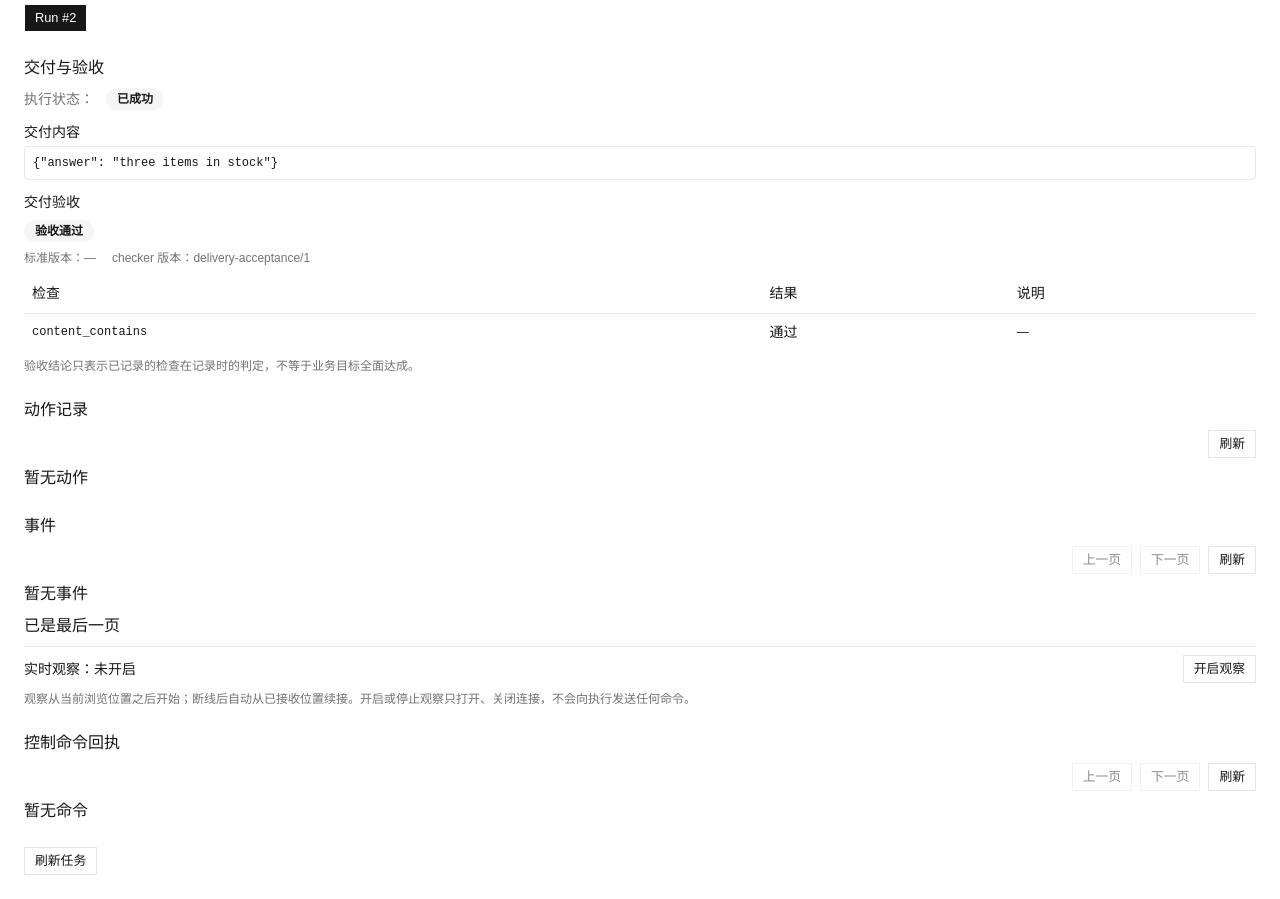
it: TaskDetailPage continuation section › keeps the last trail when a refresh fails
(page scrolled)
Click the button "刷新任务" at (61, 861), box [24, 847, 97, 875]
(page scrolled)
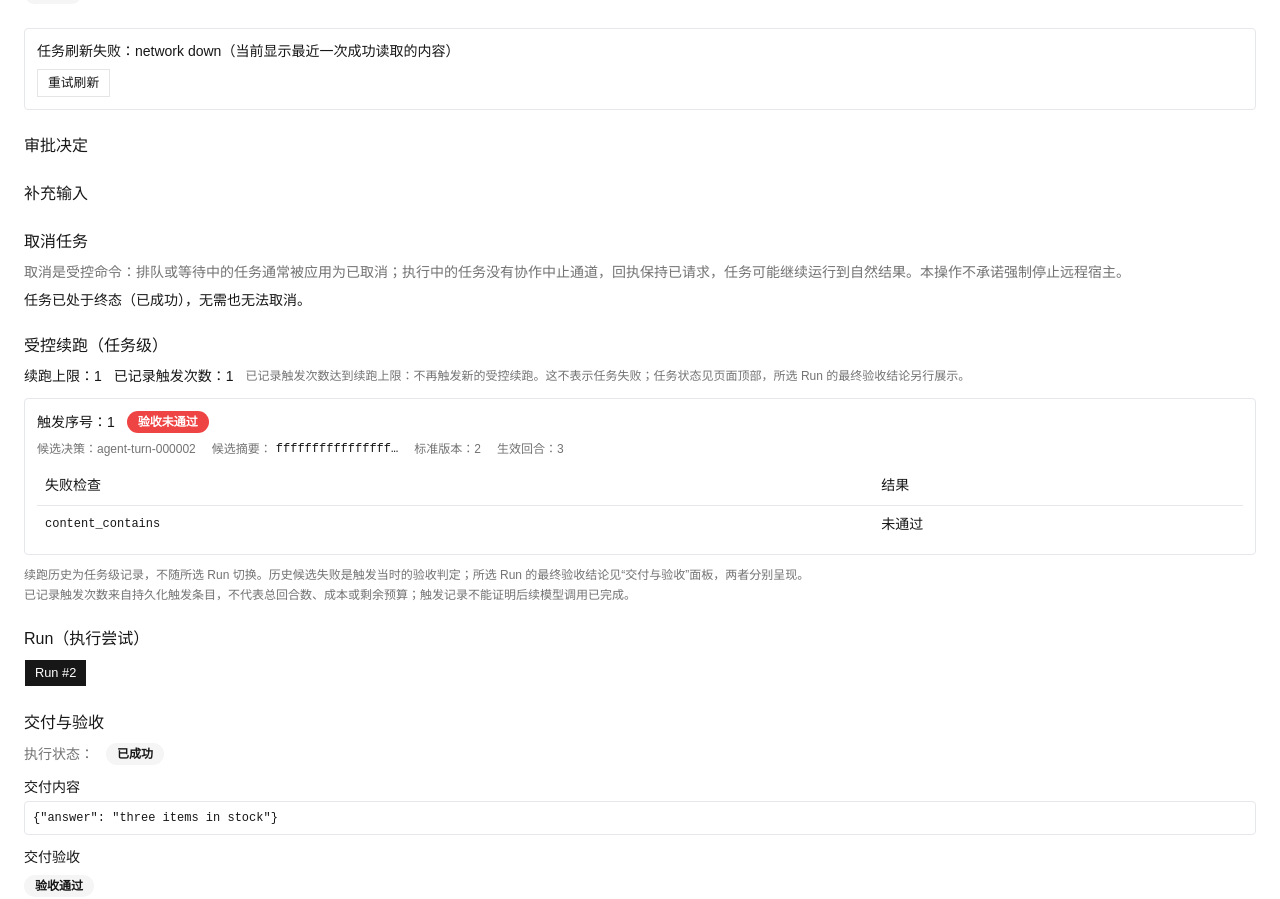
Expected: the text "候选决策：agent-turn-000002" is shown, [37, 441, 196, 457]
Result: the message "任务刷新失败：network down（当前显示最近一次成功读取的内容） 重试刷新" is shown at [24, 28, 1256, 110]
